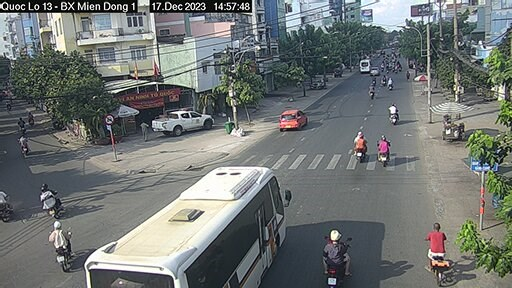bus: (82, 150, 295, 288)
car: (144, 109, 213, 142), (268, 107, 310, 138)
motorbike: (309, 223, 350, 283), (369, 128, 390, 169), (349, 129, 368, 169)
